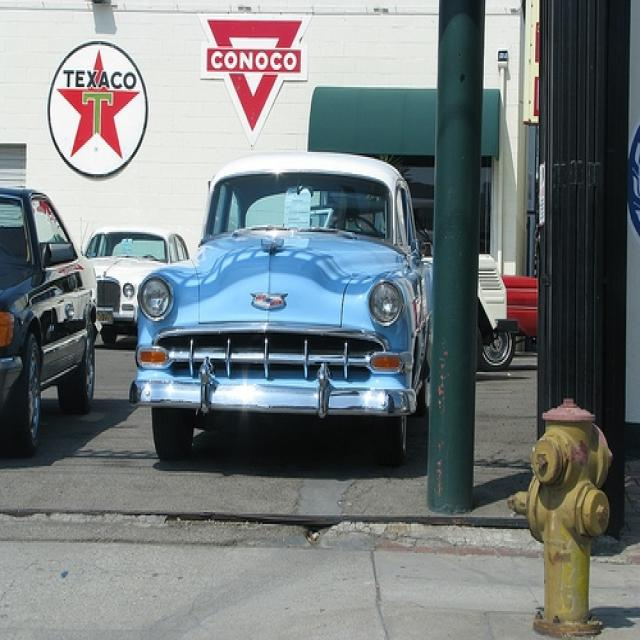texaco: (45, 39, 148, 177)
